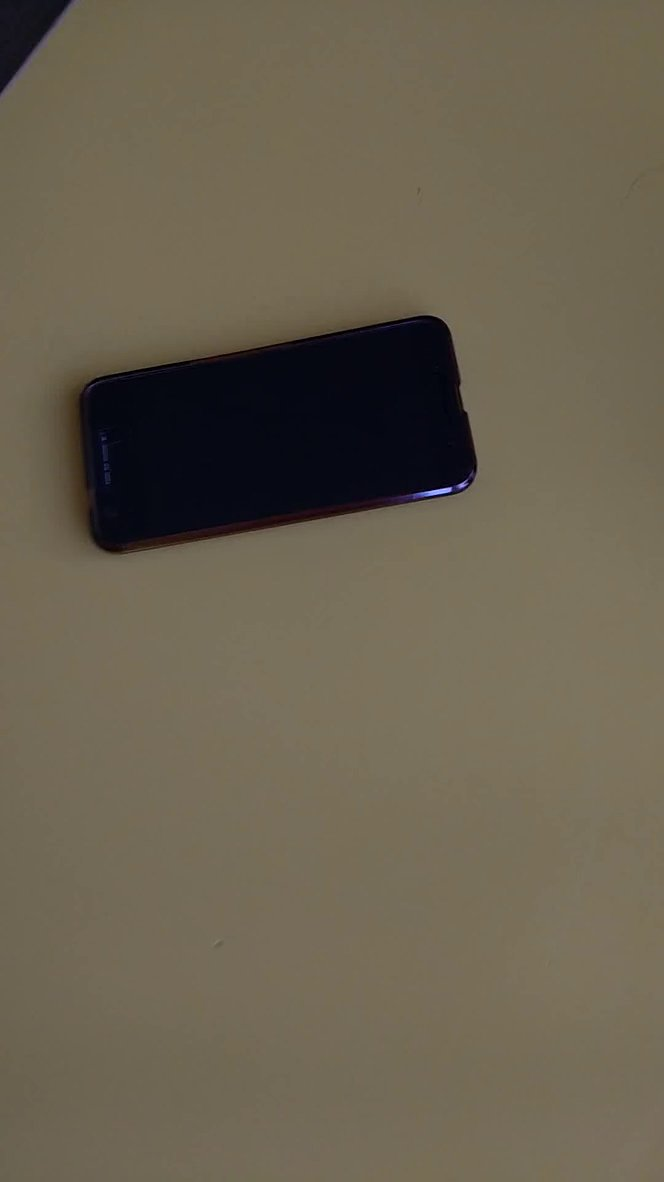phone: (71, 309, 488, 564)
